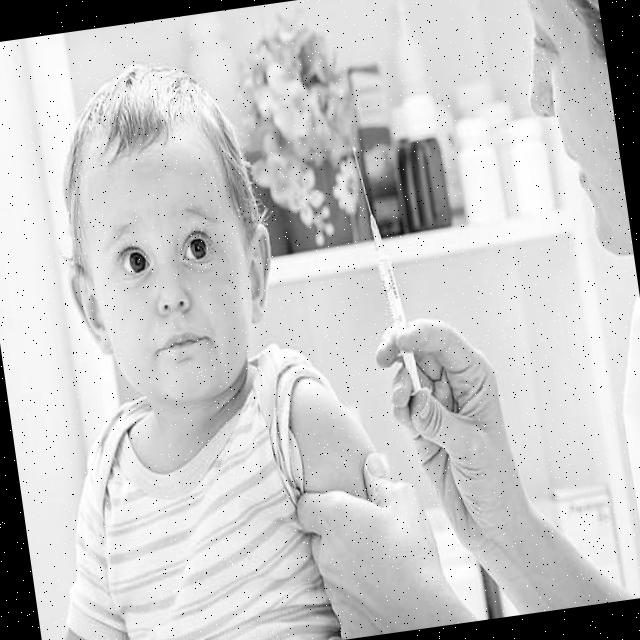Fear: (82, 132, 260, 408)
